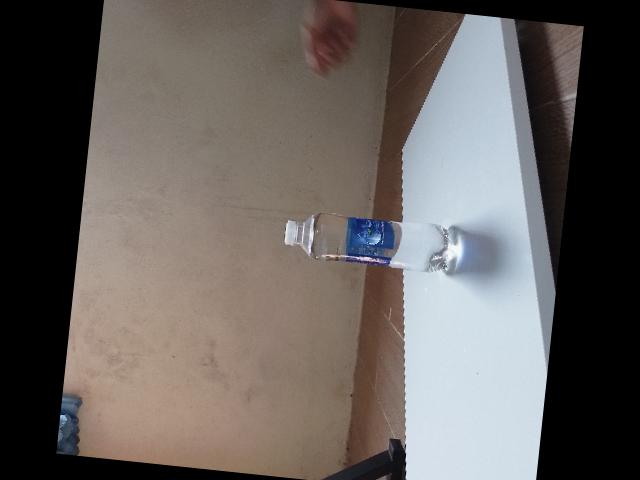aquafina: (285, 211, 456, 272)
